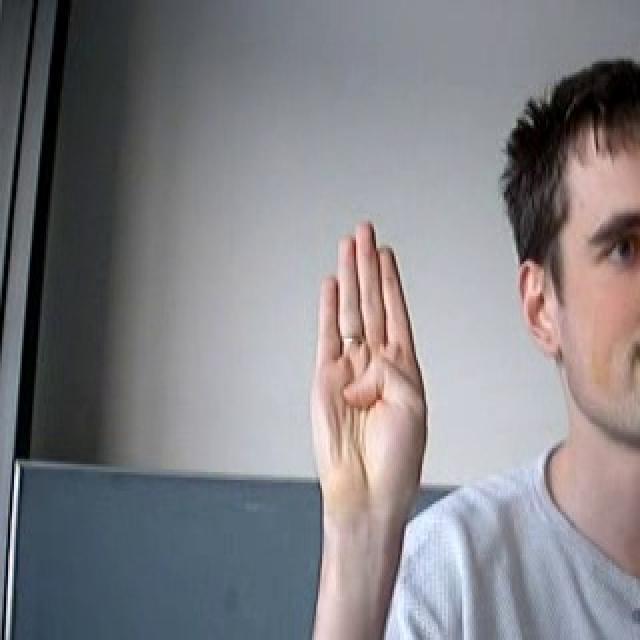B: (286, 209, 441, 525)
